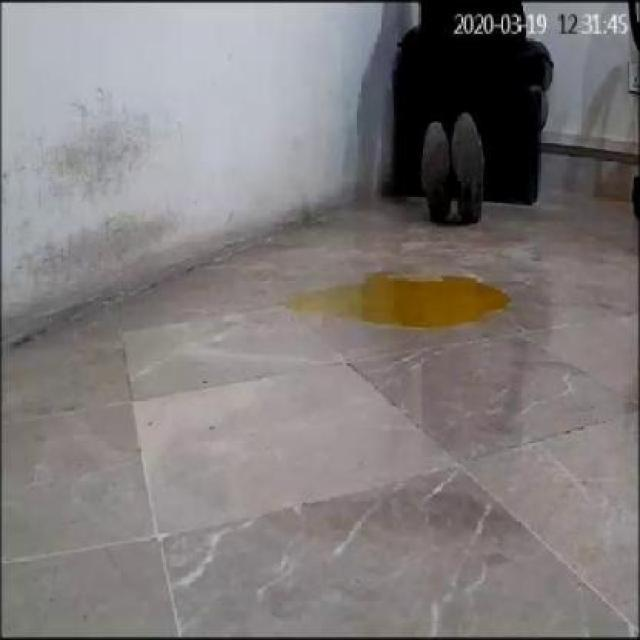spillage: (271, 270, 512, 344)
